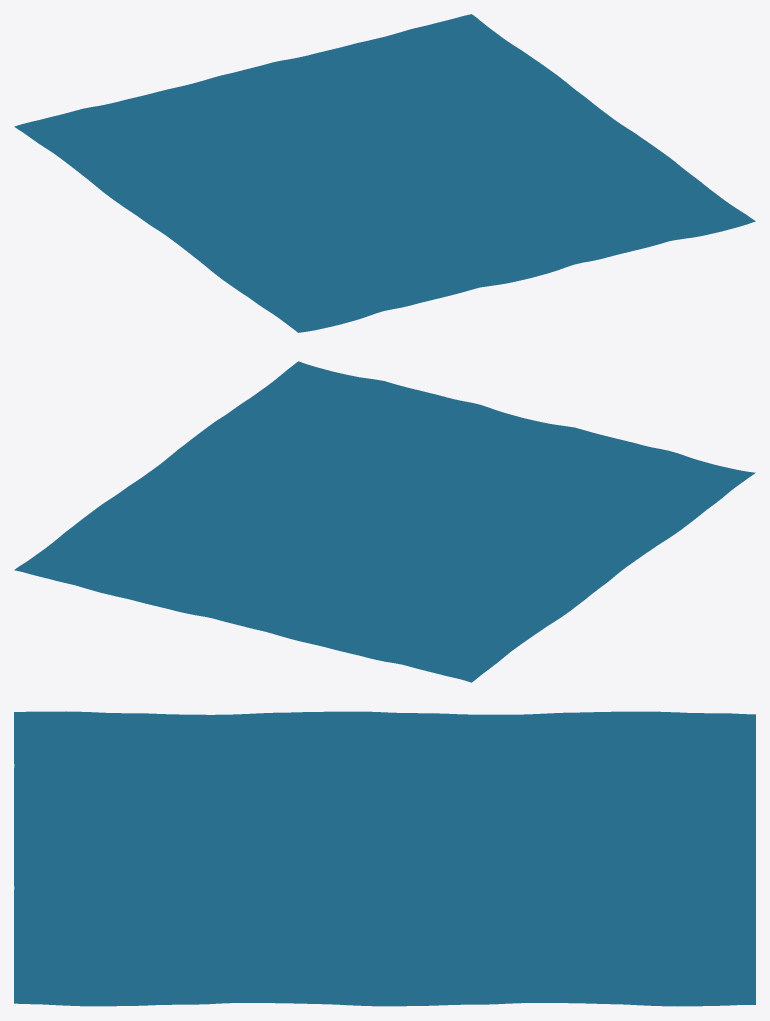
Rendered from ocean_3.glb.
3 renders of one model, top to bottom at view 1: azimuth 30°, elevation 25°; view 2: azimuth 150°, elevation 25°; view 3: azimuth 270°, elevation 25°, orthographic. The views are drawn at different scales.
Visible parts, largest first — view 1: large.005; view 2: large.005; view 3: large.005.
Part boxes in pixels (<box>): large.005: <box>14,14,755,332</box>; large.005: <box>14,361,755,682</box>; large.005: <box>14,711,755,1006</box>.
Size of the model in its own units: 60.84 by 0.4808 by 65.43.
1 material, 1 textured.
